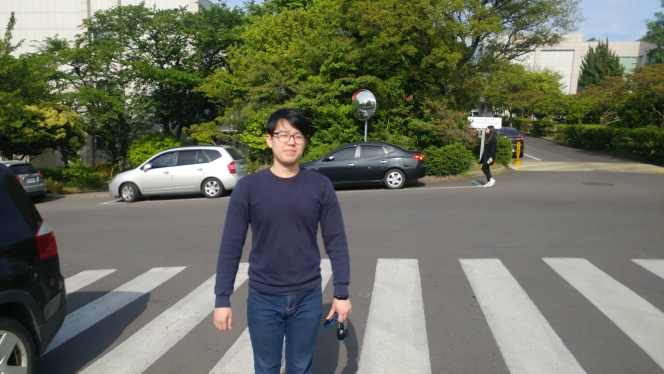KMG: (216, 164, 364, 374), (264, 110, 314, 170)
